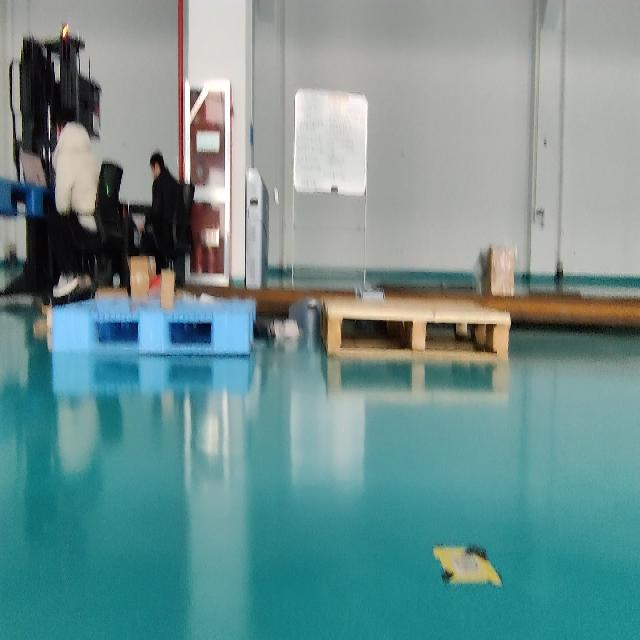euro: (317, 293, 509, 361)
